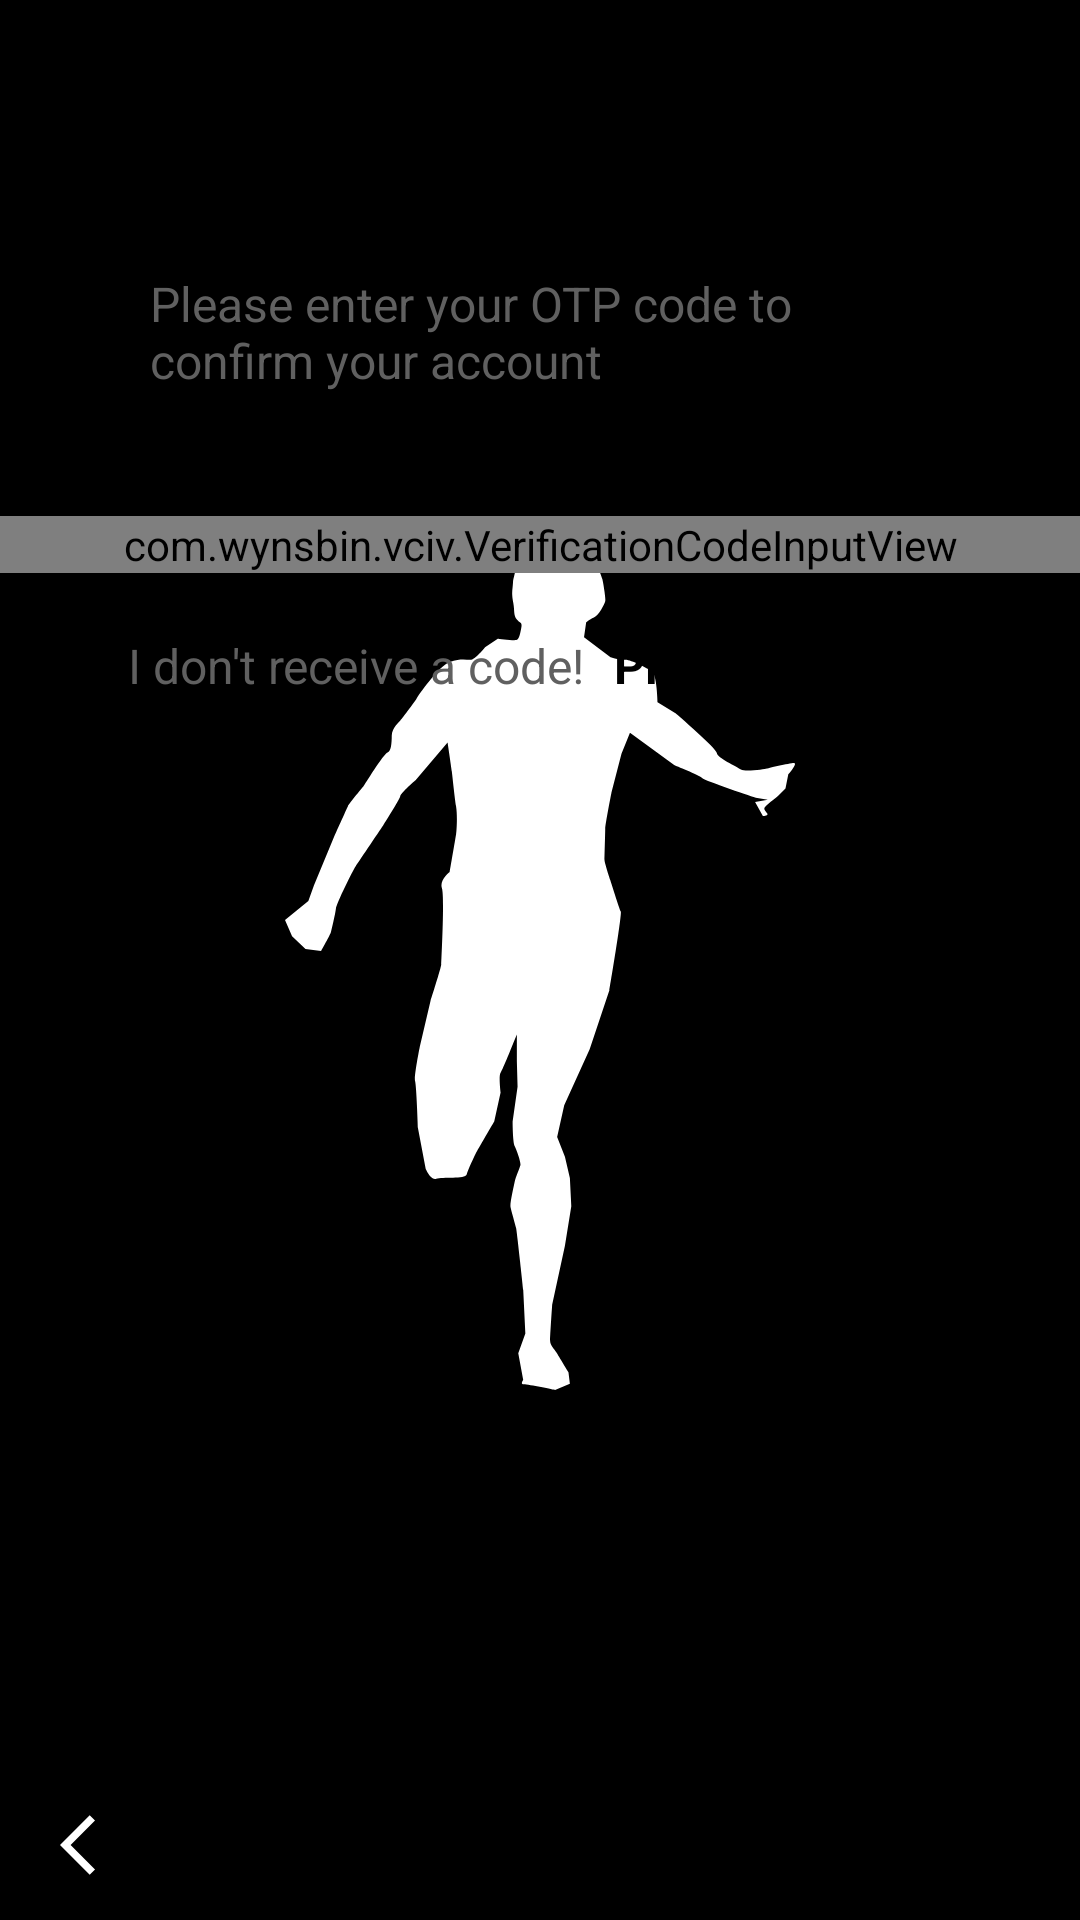

Locate icon controls on the screen. Image size 1080 × 1920, boxes as [x1, y1, x2, y2].
arrow back: [60, 1815, 95, 1875]
